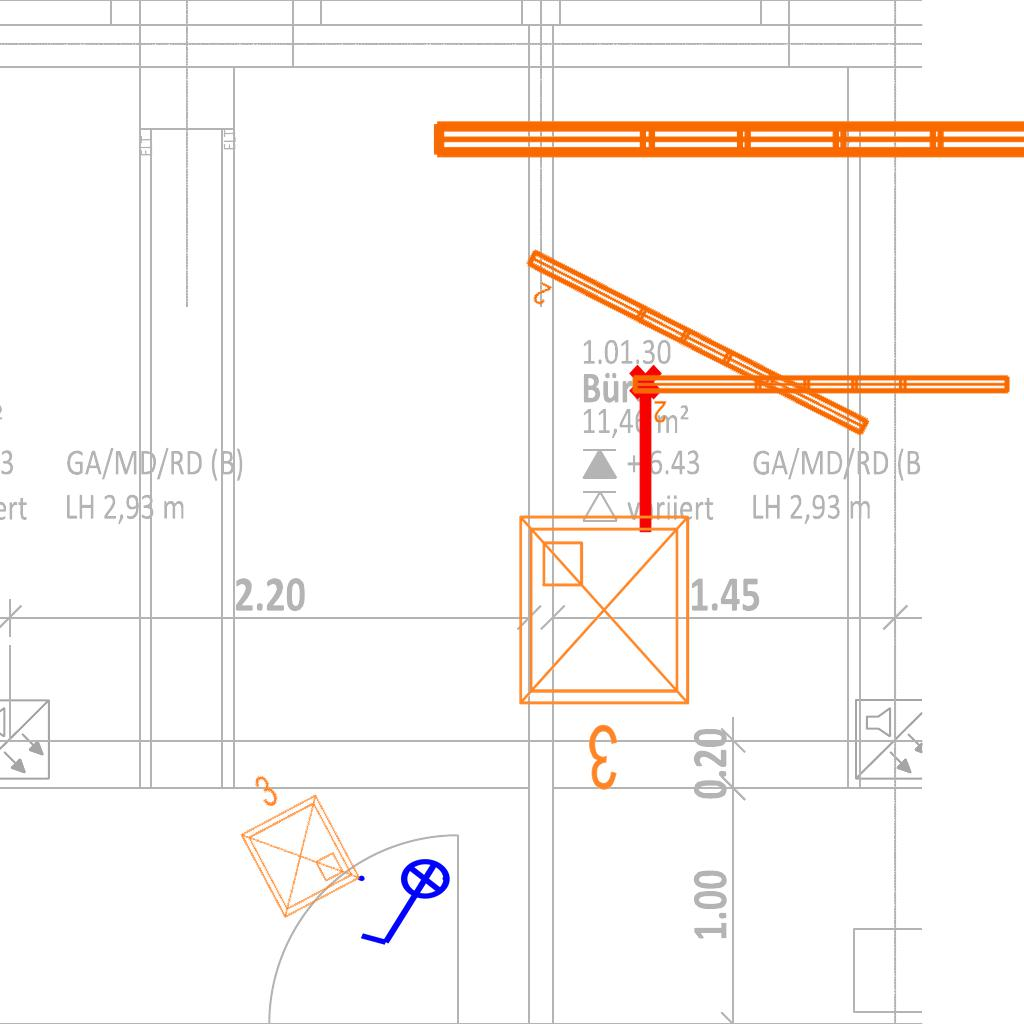ASR_Ansaugoeffnung: (625, 362, 671, 538)
Ambulanz_Pendelleuchte_LED: (507, 241, 878, 467), (423, 58, 1024, 170), (628, 369, 1015, 425)
Ausschalter_beleuchtet: (352, 857, 464, 953)
Einbaudownlights_LED_Konferenzraeume: (504, 501, 712, 801), (207, 748, 371, 930)
